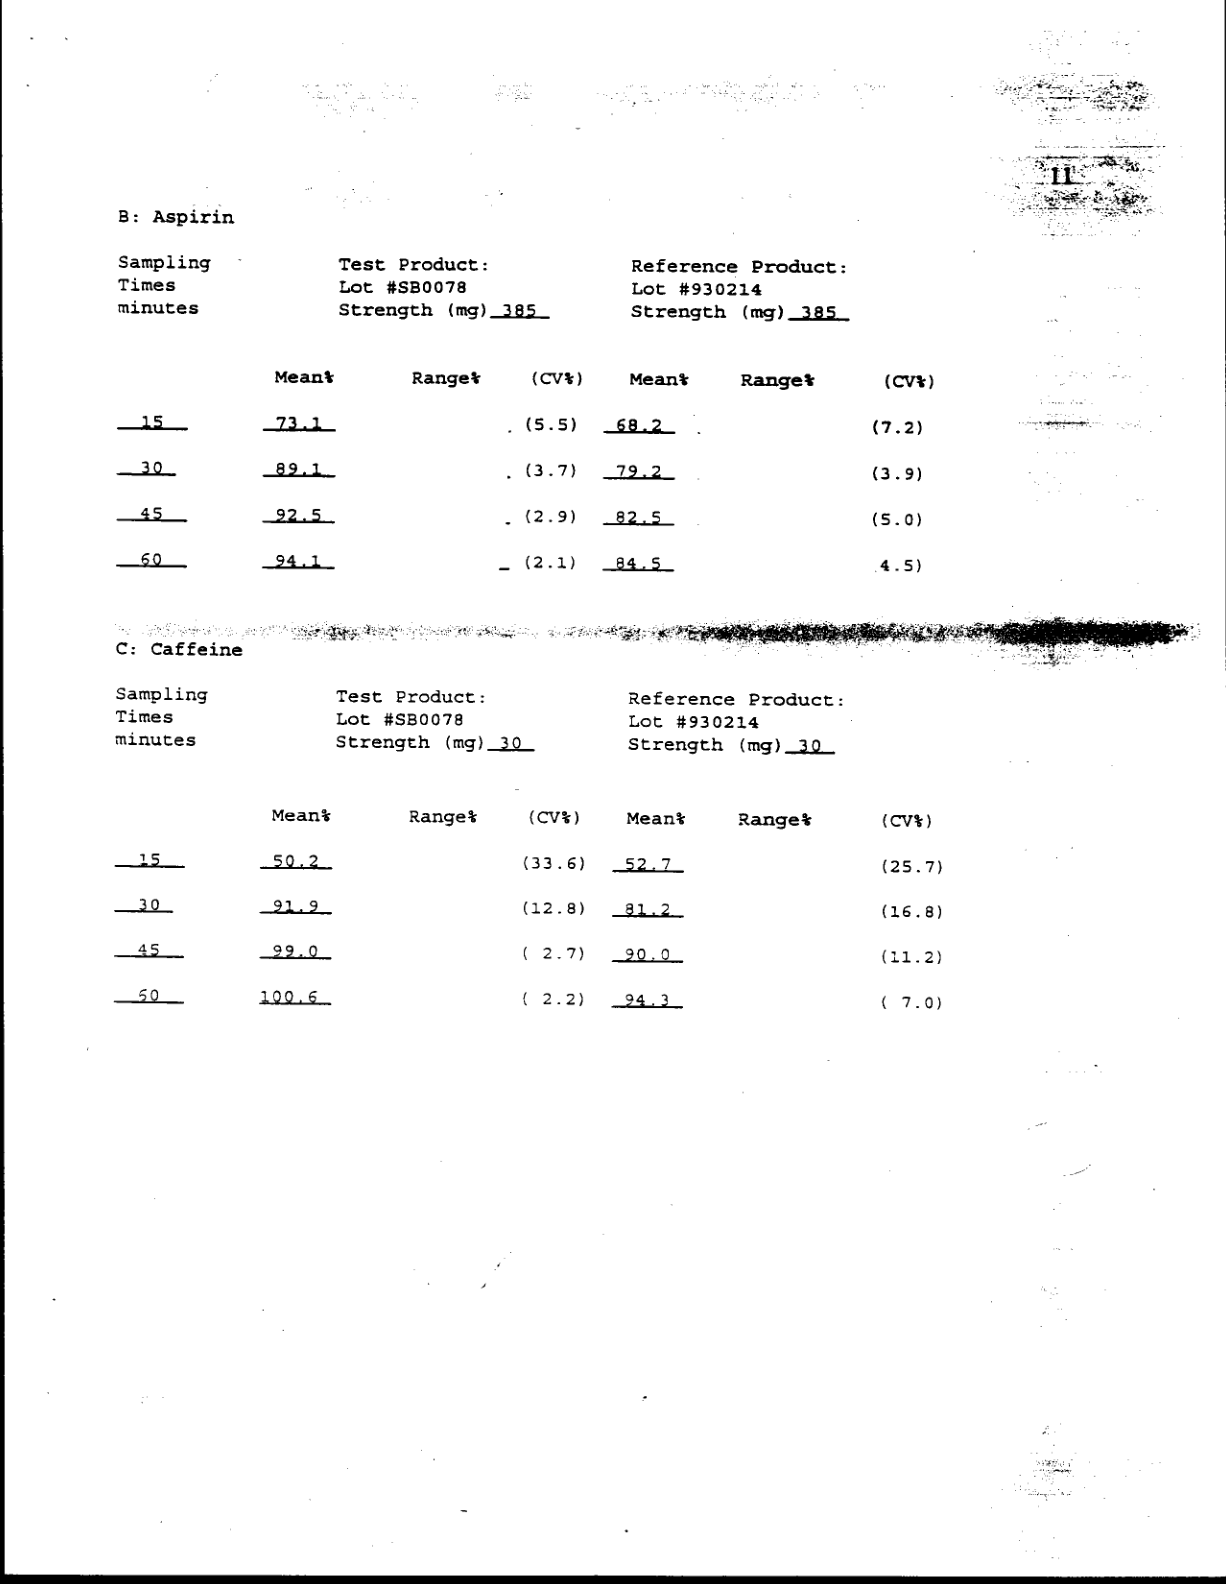nolines: (109, 804, 950, 1013), (112, 366, 932, 577), (112, 683, 846, 757), (114, 249, 853, 323)
